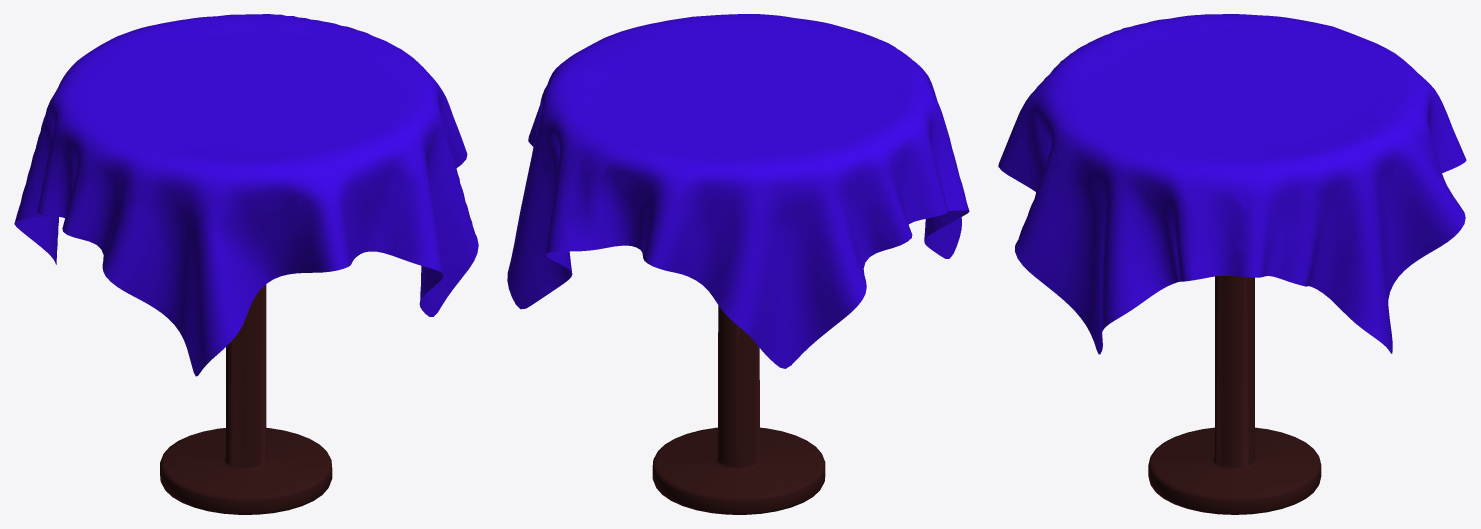
Rendered from round-table.glb.
3 renders of one model, left to right at view 1: azimuth 30°, elevation 25°; view 2: azimuth 150°, elevation 25°; view 3: azimuth 270°, elevation 25°, orthographic.
Parts seen in each view (by area): view 1: Plane_Cloth_0, Cylinder_Body_0; view 2: Plane_Cloth_0, Cylinder_Body_0; view 3: Plane_Cloth_0, Cylinder_Body_0.
Boxes of the visible parts, box(x1,y1,x2,y2) form: Plane_Cloth_0: box(14, 14, 478, 376); Cylinder_Body_0: box(160, 284, 332, 514); Plane_Cloth_0: box(507, 14, 969, 368); Cylinder_Body_0: box(652, 305, 825, 514); Plane_Cloth_0: box(998, 14, 1466, 354); Cylinder_Body_0: box(1148, 275, 1321, 514).
Size of the model in its own units: 2.43 by 2.29 by 2.49.
